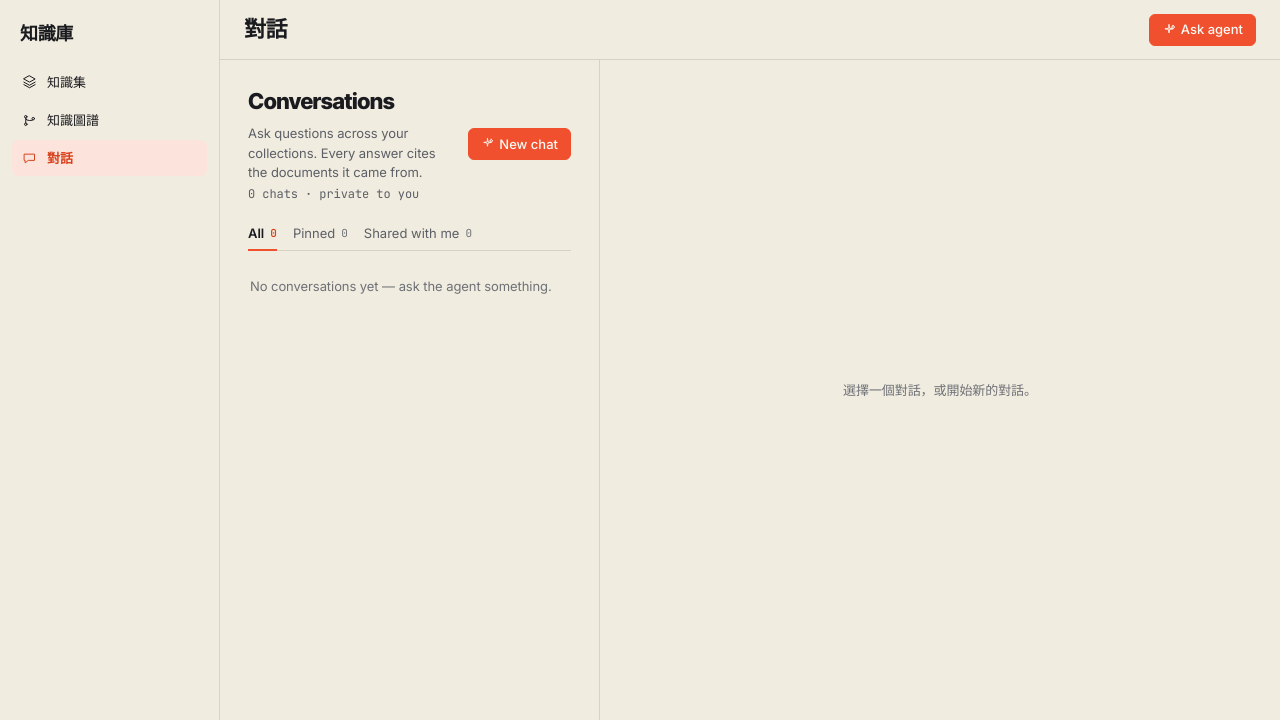
it: KbHome shell › shows a newly started chat in the conversations list right away
This screenshot has width=1280, height=720.
Expected: the button "msgs" is not shown
Click the button "New chat" at (520, 144), box x1=468 y1=128 x2=571 y2=160
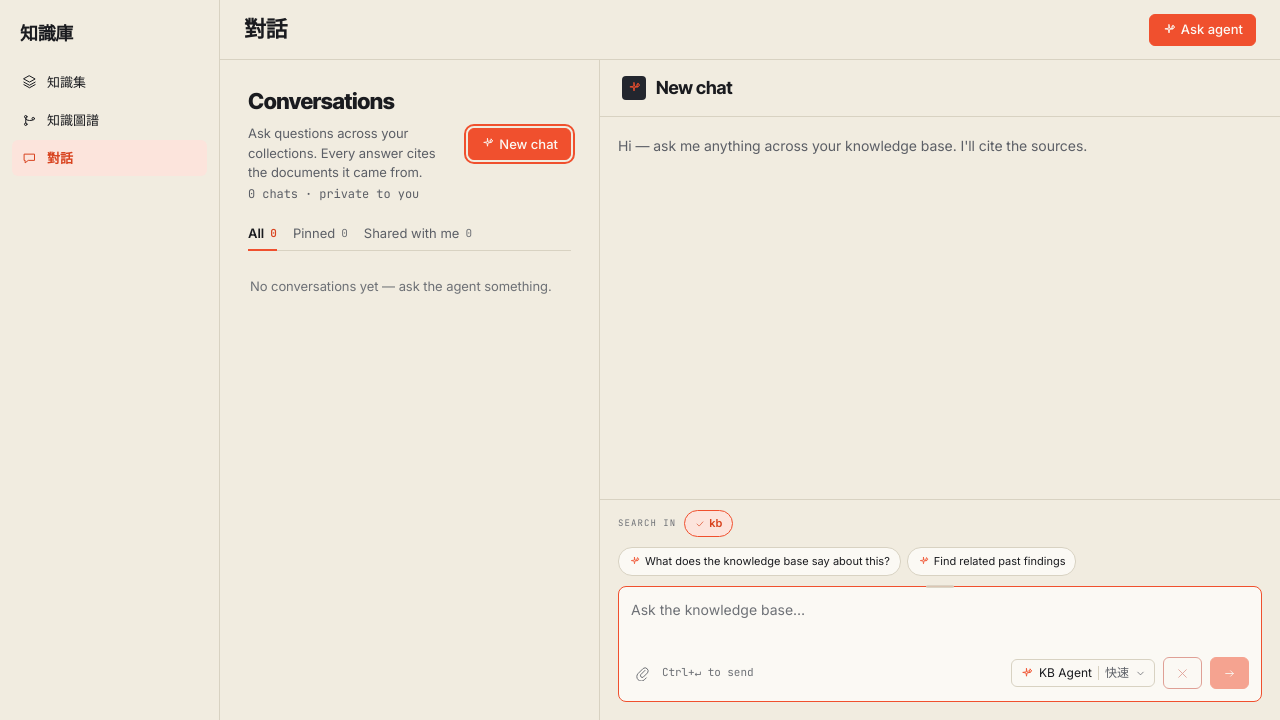
Type "hello" into the text box with placeholder "Ask the knowledge base…" at (940, 621), box x1=631 y1=599 x2=1249 y2=643
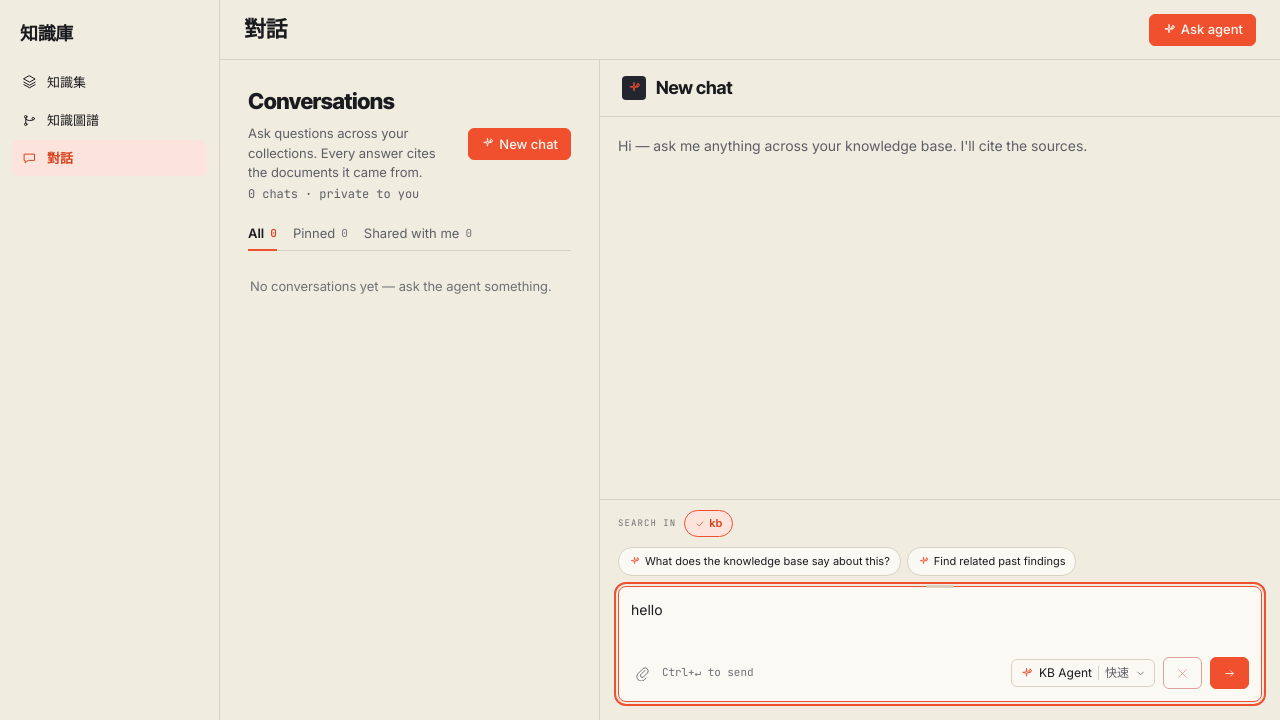
Click the button named "send" at (1230, 673), box x1=1210 y1=657 x2=1249 y2=689
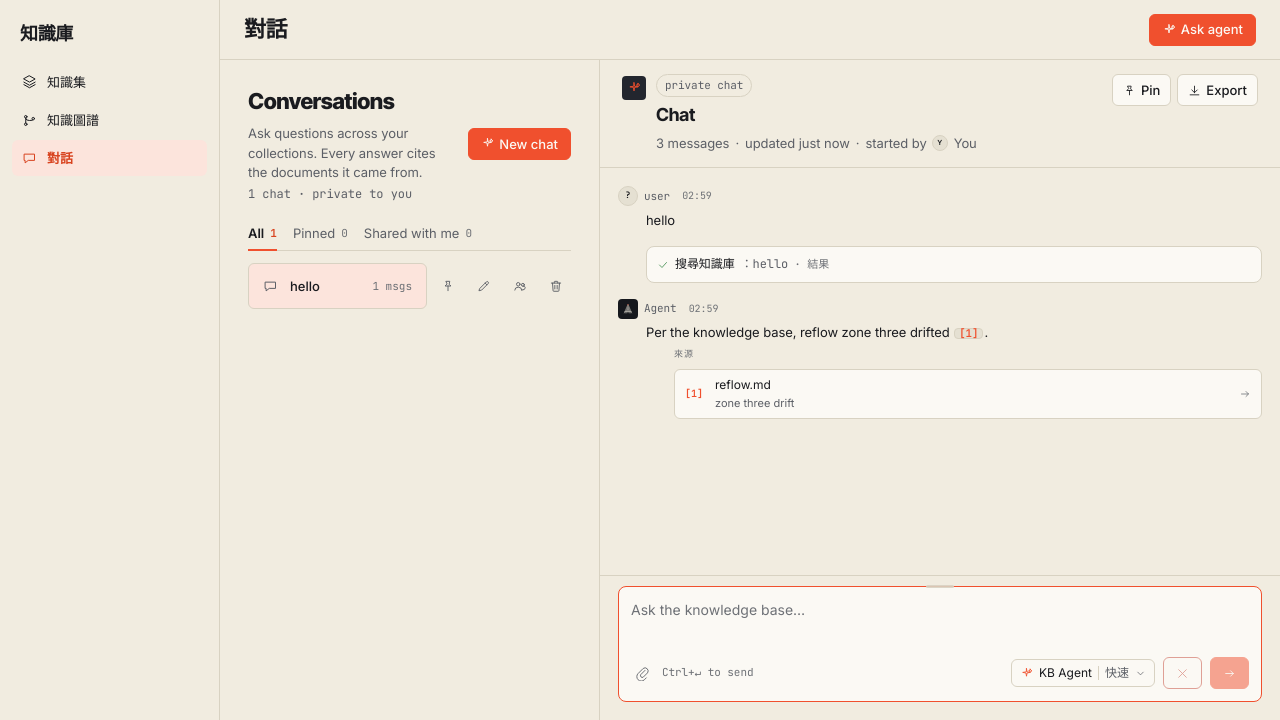
Expected: the button "hello 1 msgs" is shown, x1=248 y1=263 x2=427 y2=309
